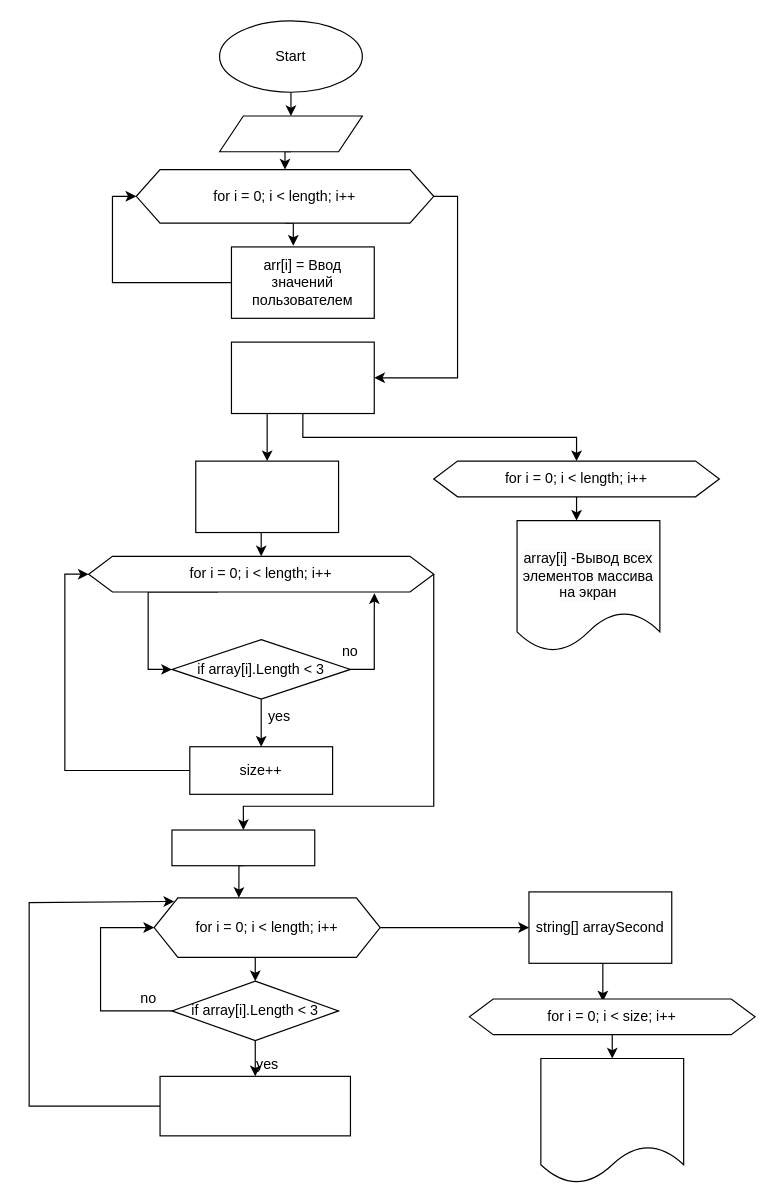
The diagram is 776 pixels wide and 1204 high, and some of its shapes have lost their labels. Each missing label, with the centre of its shape:
"arraySecond[i] - Вывод всех элементов второго массива на экран" belongs at [612,1120].
"arraySecond[j] = array[i] j++" belongs at [254,1105].
"j=o" belongs at [243,847].
"length" belongs at [290,133].
"size = 0" belongs at [267,496].
"string[] array" belongs at [302,377].
